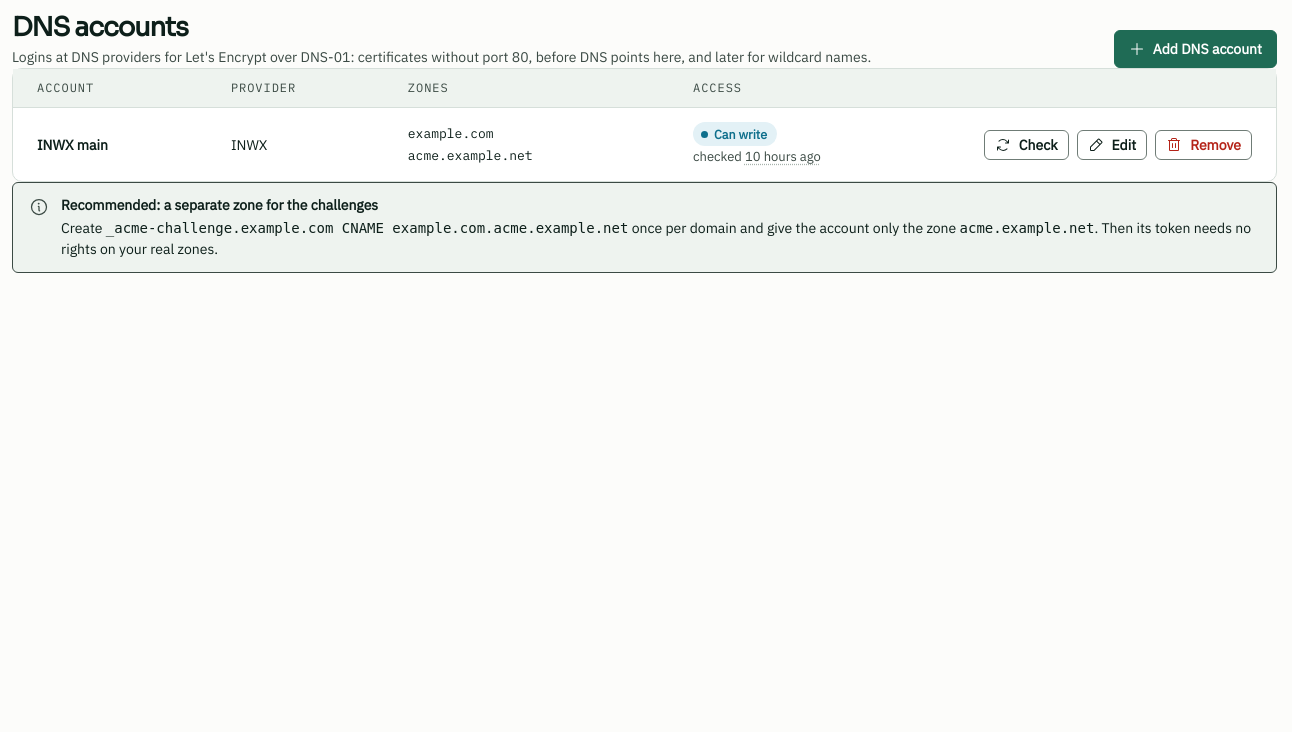
Test: DNSAccounts › asks before removing and shows a refusal
Step 1. Click the button with aria-label "Remove INWX main" → (1204,145), box [1155, 130, 1252, 160]
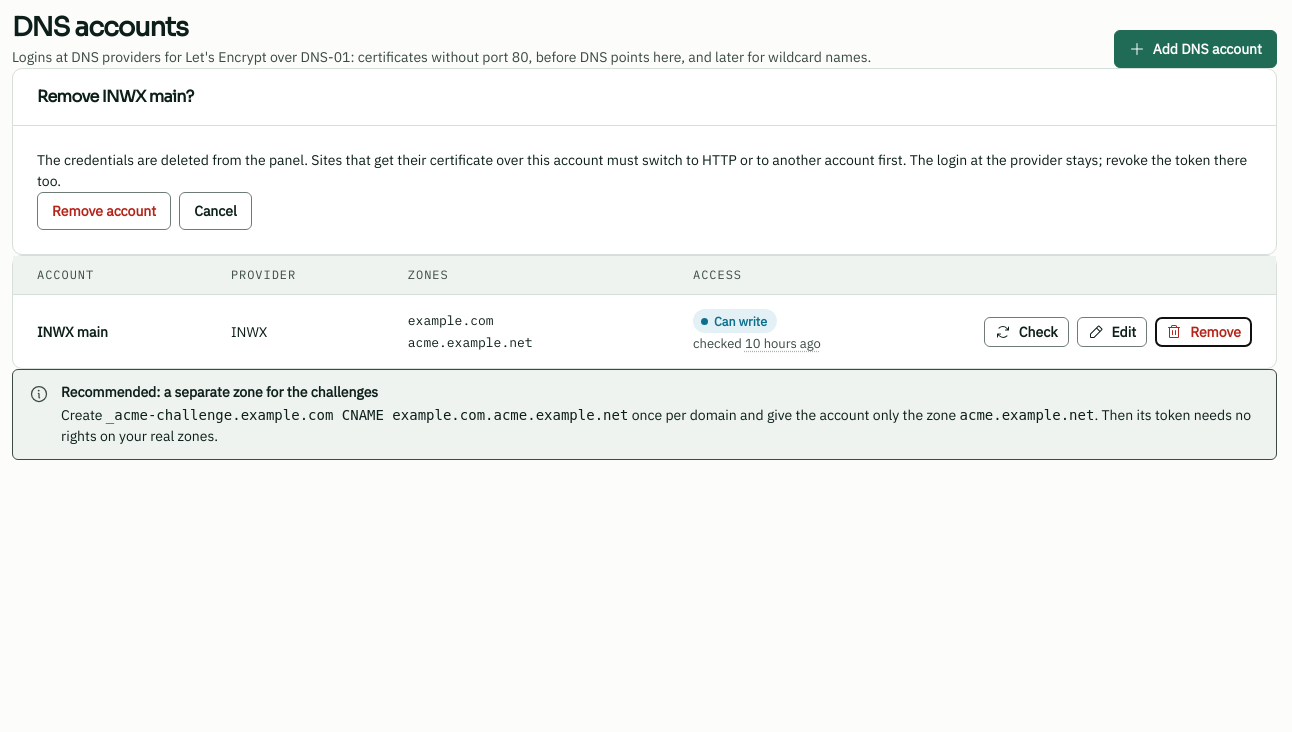
Step 2. Click the button "Remove account" → (104,211), box [37, 192, 171, 230]
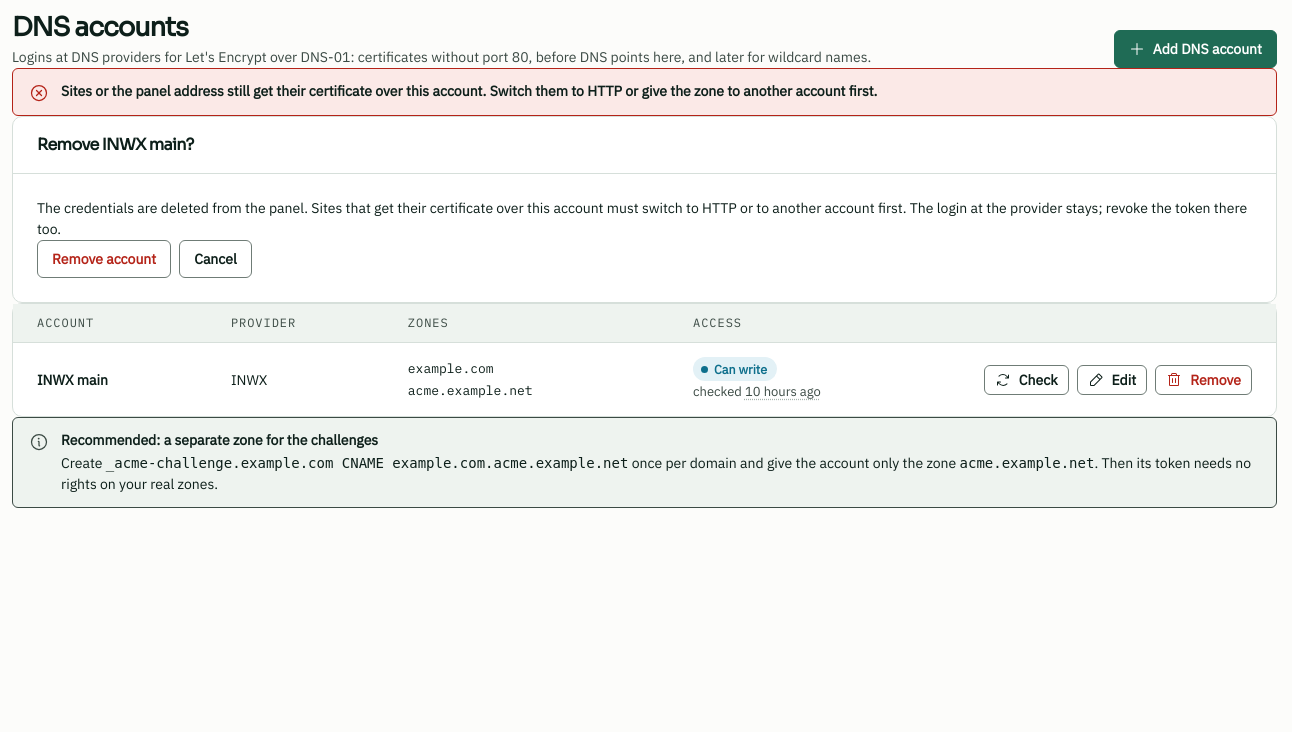
Expected: the text "still get their certificate over this account" is shown, [61, 82, 877, 100]
